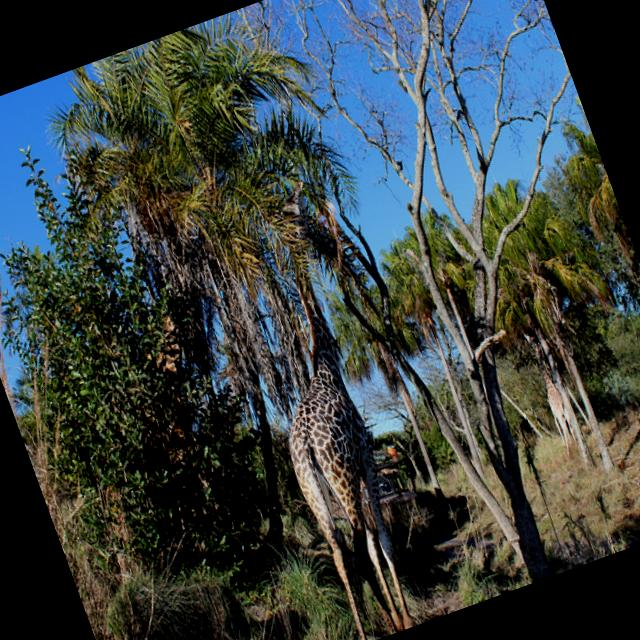Vehicle: (351, 464, 433, 554)
